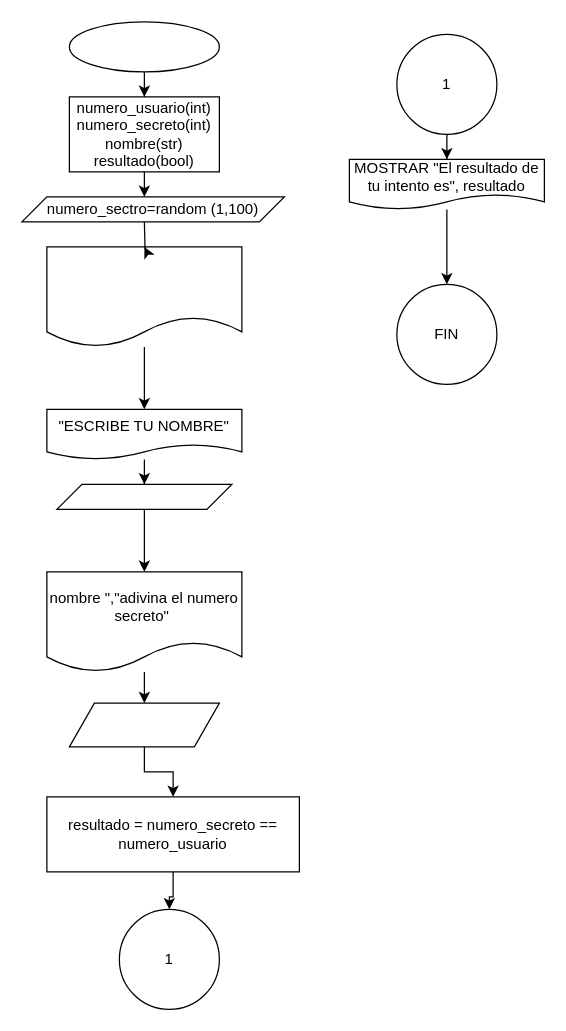
Image size: 566x1031. Some labels were removed from this diagram. The centre of each missing label's shape, as x and y in pixels:
"*"*5, "BIENVEMNIDO AL JUEGO DE ADIVINA EL NUMERO", "*"*5: [144,296]
INICIO: [143,46]
nombre: [144,496]
numero_usuario: [143,724]
